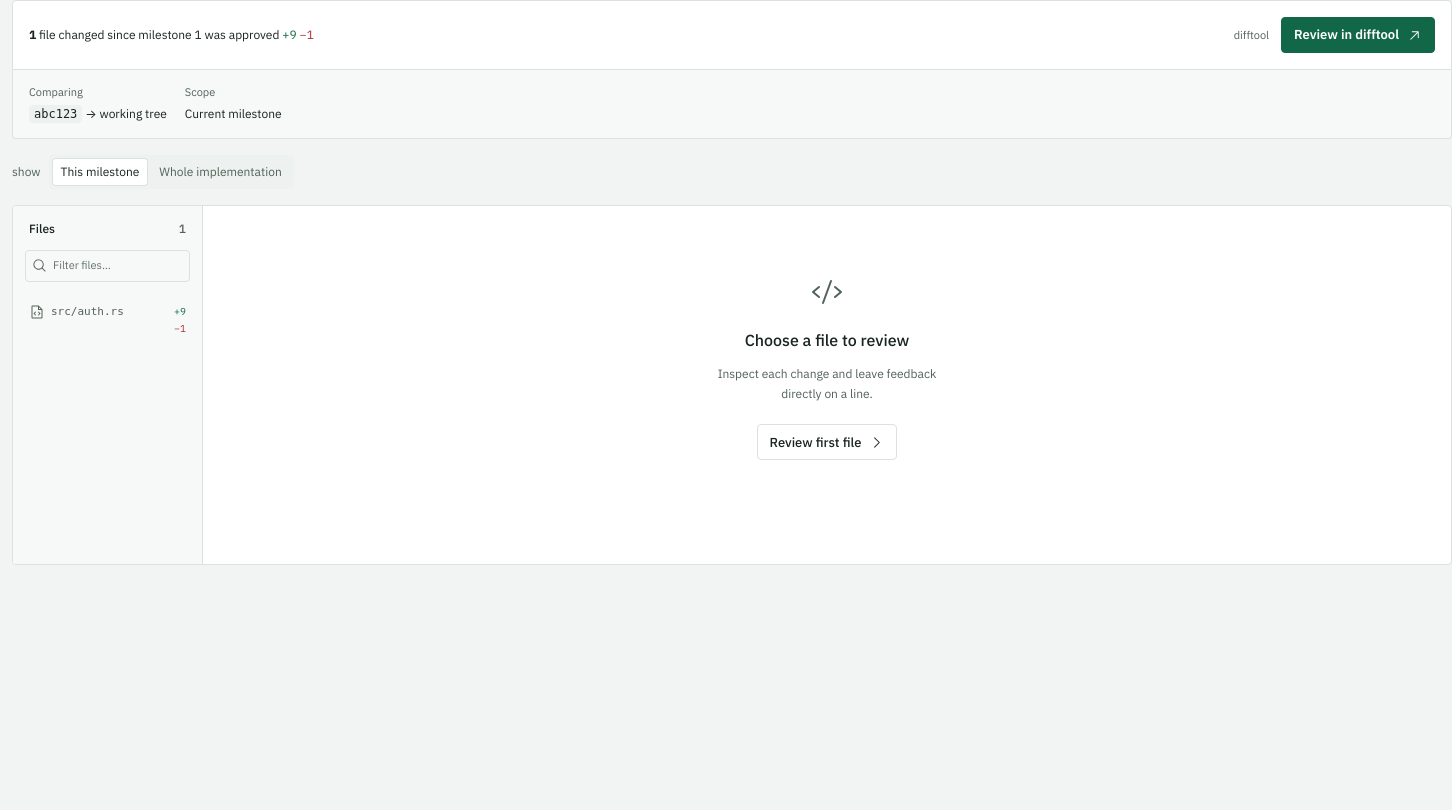
Test case: filters the file navigator and restores the list
This screenshot has width=1452, height=810.
Expected: the button named "Expand src/auth.rs" is shown, x1=21 y1=294 x2=194 y2=346
Step 1. Type "missing" into the field named "Filter changed files" → (118, 266), box x1=53 y1=251 x2=183 y2=281
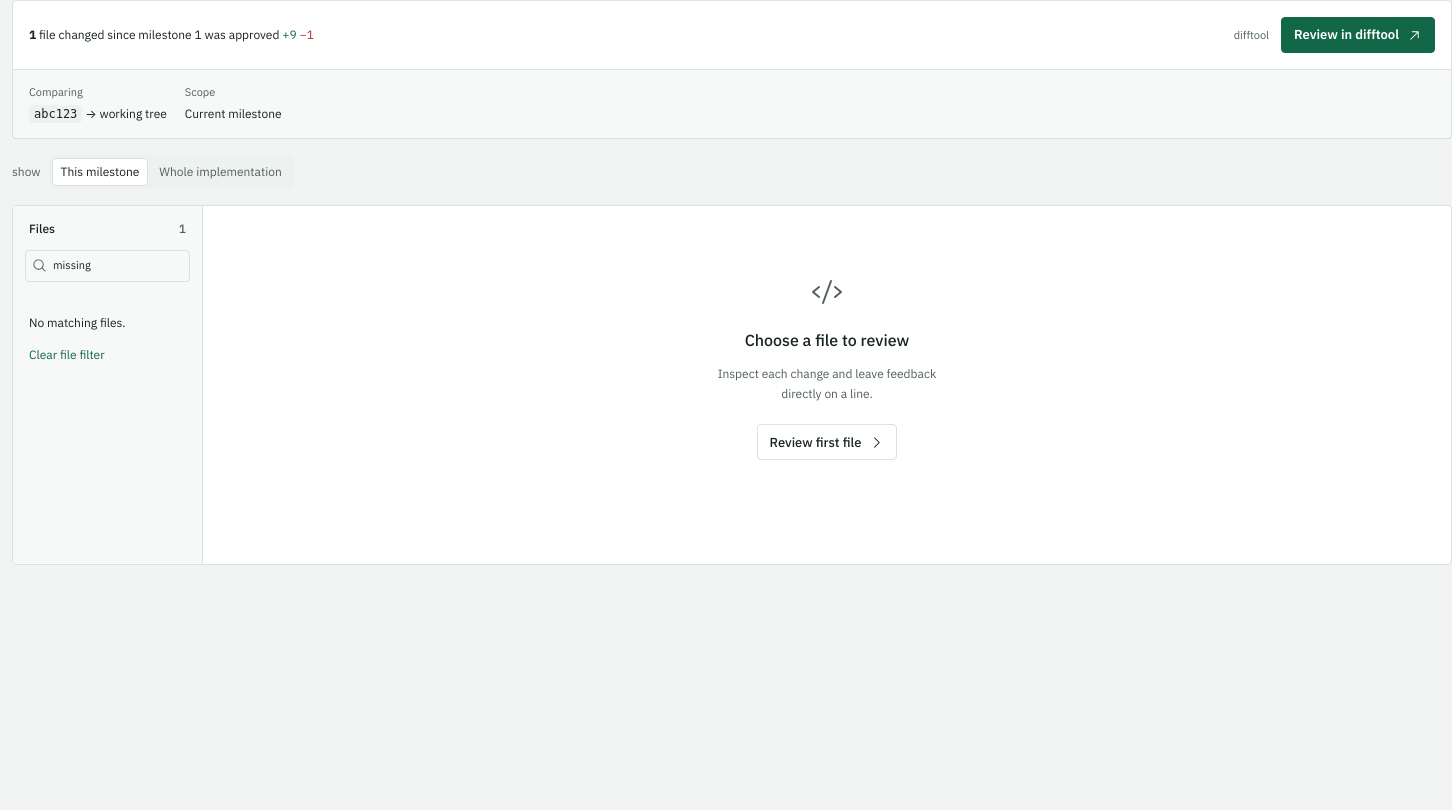
Expected: the button "Expand src/auth.rs" is not shown
Step 2. Click the button "Clear file filter" → (67, 355), box x1=29 y1=344 x2=105 y2=366
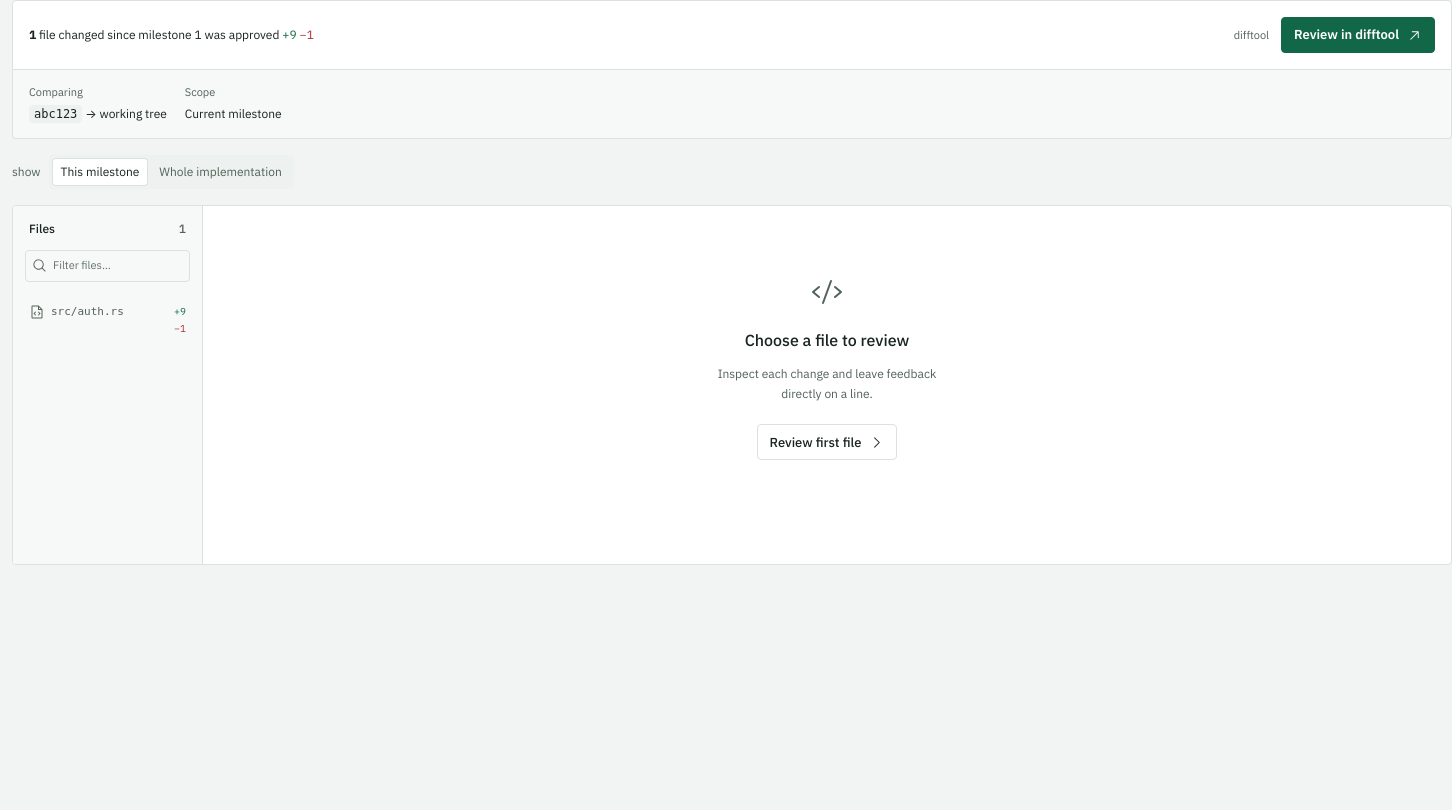
Expected: the button named "Expand src/auth.rs" is shown, x1=21 y1=294 x2=194 y2=346
